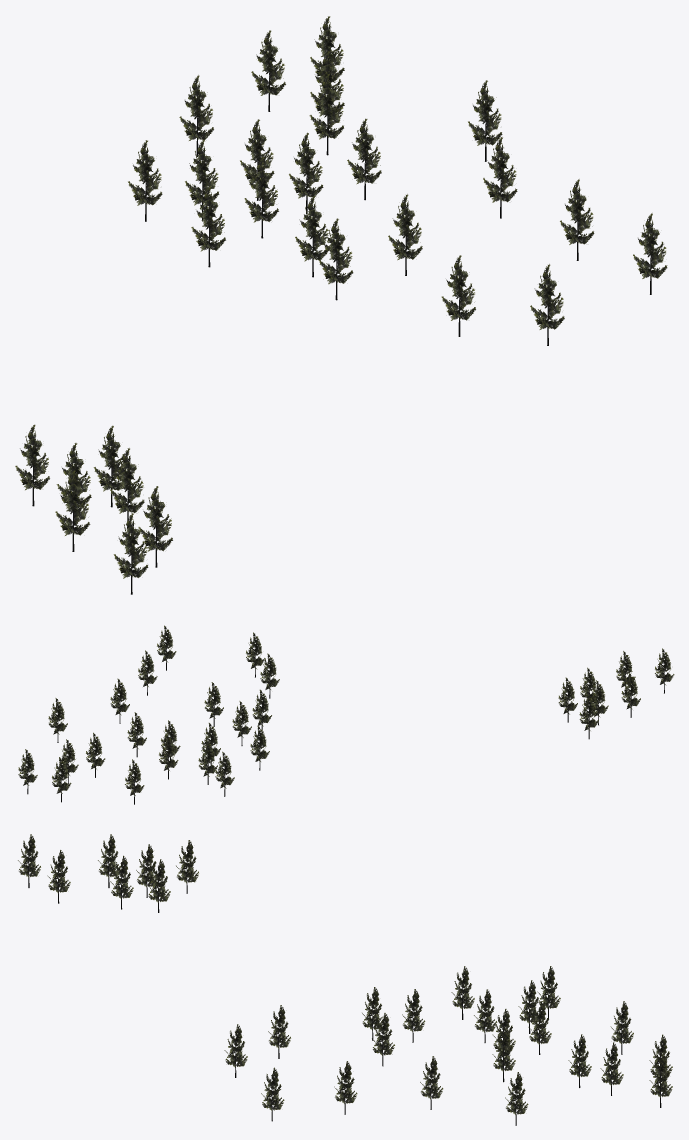
Rendered from trees_rep.fbx.
3 renders of one model, top to bottom at view 1: azimuth 30°, elevation 25°; view 2: azimuth 150°, elevation 25°; view 3: azimuth 270°, elevation 25°, orthographic. The views are drawn at different scales.
Parts seen in each view (by area): view 1: polySurface33, polySurface453, polySurface155, polySurface365, polySurface405; view 2: polySurface453, polySurface33, polySurface155, polySurface365, polySurface405; view 3: polySurface453, polySurface33, polySurface155, polySurface365, polySurface405.
Part boxes in pixels (x1,y1,x2,y2): polySurface33: (128,118,381,267); polySurface453: (15,424,172,594); polySurface155: (295,80,517,300); polySurface365: (179,16,344,156); polySurface405: (441,179,667,345); polySurface453: (558,648,674,739); polySurface33: (127,712,269,796); polySurface155: (48,678,271,745); polySurface365: (18,732,144,804); polySurface405: (138,625,279,698); polySurface453: (18,834,198,912); polySurface33: (451,966,560,1082); polySurface155: (362,987,528,1125); polySurface365: (568,1001,672,1107); polySurface405: (224,1005,357,1121).
Bounding box in the file's own units: 18803 × 1951 × 20992.
2 materials, 1 textured.
